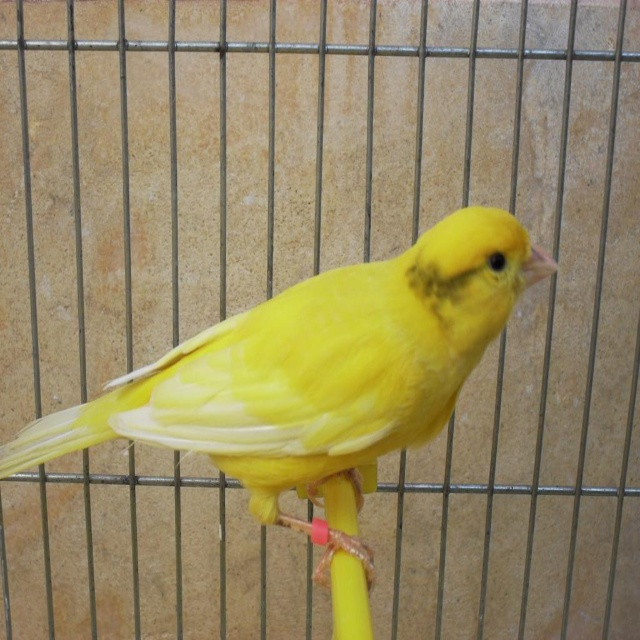Canary: (0, 201, 558, 596)
